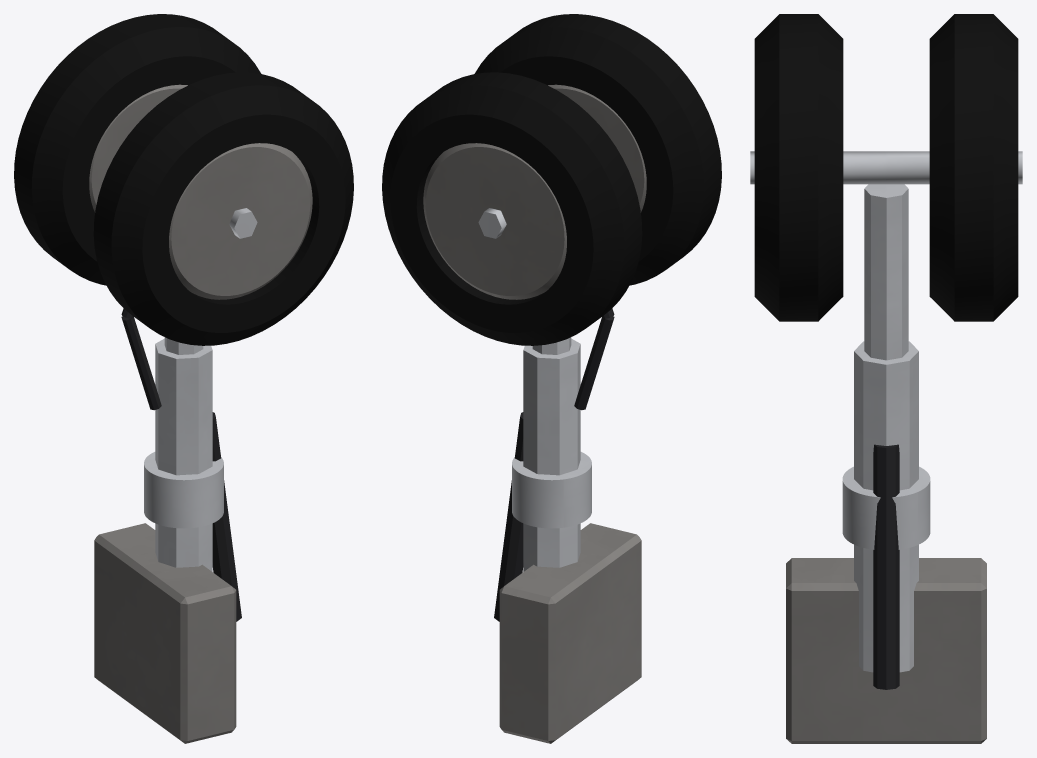
Rendered from ax_gear_02_main_gear_s_stowed.glb.
3 renders of one model, left to right at view 1: azimuth 30°, elevation 25°; view 2: azimuth 150°, elevation 25°; view 3: azimuth 270°, elevation 25°, orthographic. The views are drawn at different scales.
Parts seen in each view (by area): view 1: wheel_tyres, mount_block, wheel_hubs, gear_leg, gear_links, gear_axles; view 2: wheel_tyres, mount_block, wheel_hubs, gear_leg, gear_links, gear_axles; view 3: wheel_tyres, mount_block, gear_leg, gear_links, gear_axles.
Part boxes in pixels (x1,y1,x2,y2): wheel_tyres: (14, 14, 353, 345); mount_block: (94, 523, 236, 743); wheel_hubs: (89, 84, 312, 299); gear_leg: (144, 337, 223, 571); gear_links: (121, 308, 241, 621); gear_axles: (229, 208, 257, 238); wheel_tyres: (382, 14, 721, 345); mount_block: (499, 523, 641, 743); wheel_hubs: (423, 84, 646, 299); gear_leg: (512, 337, 591, 571); gear_links: (494, 308, 614, 621); gear_axles: (478, 208, 506, 238); wheel_tyres: (754, 14, 1018, 321); mount_block: (786, 558, 986, 743); gear_leg: (842, 184, 930, 672); gear_links: (873, 444, 899, 689); gear_axles: (750, 151, 1022, 184).
Bounding box in the file's own units: 0.5198 × 1.33 × 0.46.
4 materials, 2 textured.
